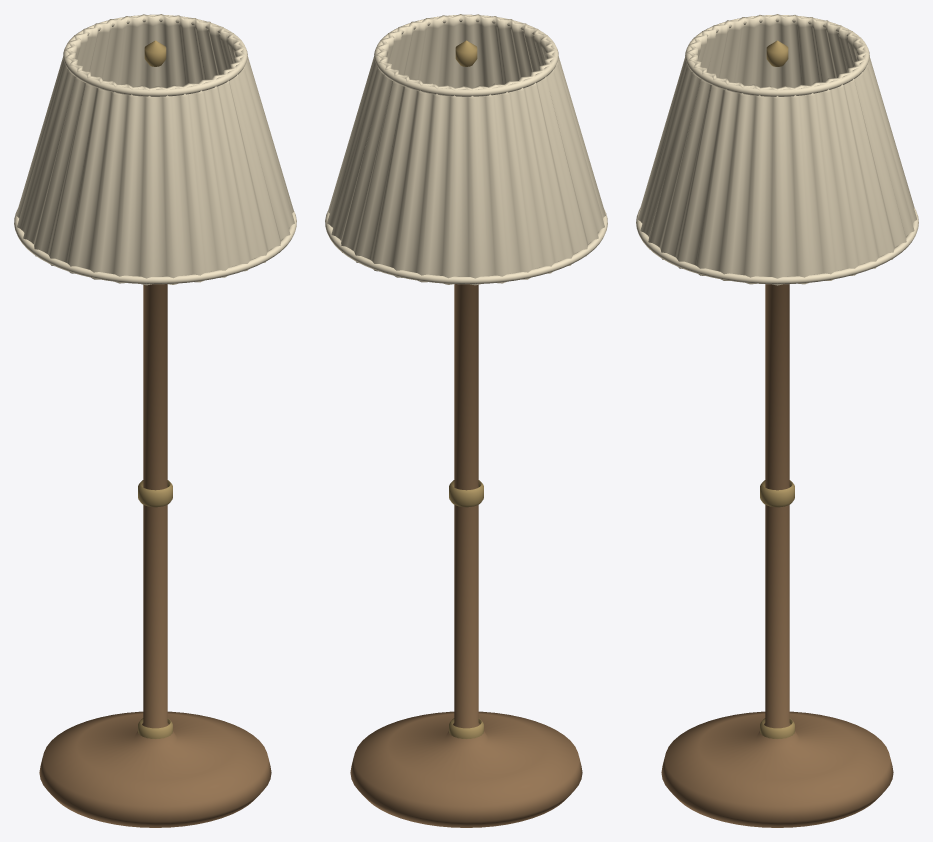
The model's file is lamp.glb.
3 renders of one model, left to right at view 1: azimuth 30°, elevation 25°; view 2: azimuth 150°, elevation 25°; view 3: azimuth 270°, elevation 25°, orthographic.
Visible parts, largest first — view 1: lamp__Dye_Main_lamp, lamp__Walnut_ribs, lamp__Brushed_brass; view 2: lamp__Dye_Main_lamp, lamp__Walnut_ribs, lamp__Brushed_brass; view 3: lamp__Dye_Main_lamp, lamp__Walnut_ribs, lamp__Brushed_brass.
Part boxes in pixels (x1=…): lamp__Dye_Main_lamp: x1=14, y1=14, x2=296, y2=285; lamp__Walnut_ribs: x1=39, y1=284, x2=271, y2=827; lamp__Brushed_brass: x1=138, y1=40, x2=172, y2=738; lamp__Dye_Main_lamp: x1=325, y1=14, x2=607, y2=285; lamp__Walnut_ribs: x1=350, y1=284, x2=582, y2=827; lamp__Brushed_brass: x1=449, y1=40, x2=483, y2=738; lamp__Dye_Main_lamp: x1=636, y1=14, x2=918, y2=285; lamp__Walnut_ribs: x1=661, y1=284, x2=893, y2=827; lamp__Brushed_brass: x1=760, y1=40, x2=794, y2=738.
Bounding box in the file's own units: 0.646 × 1.87 × 0.646.
